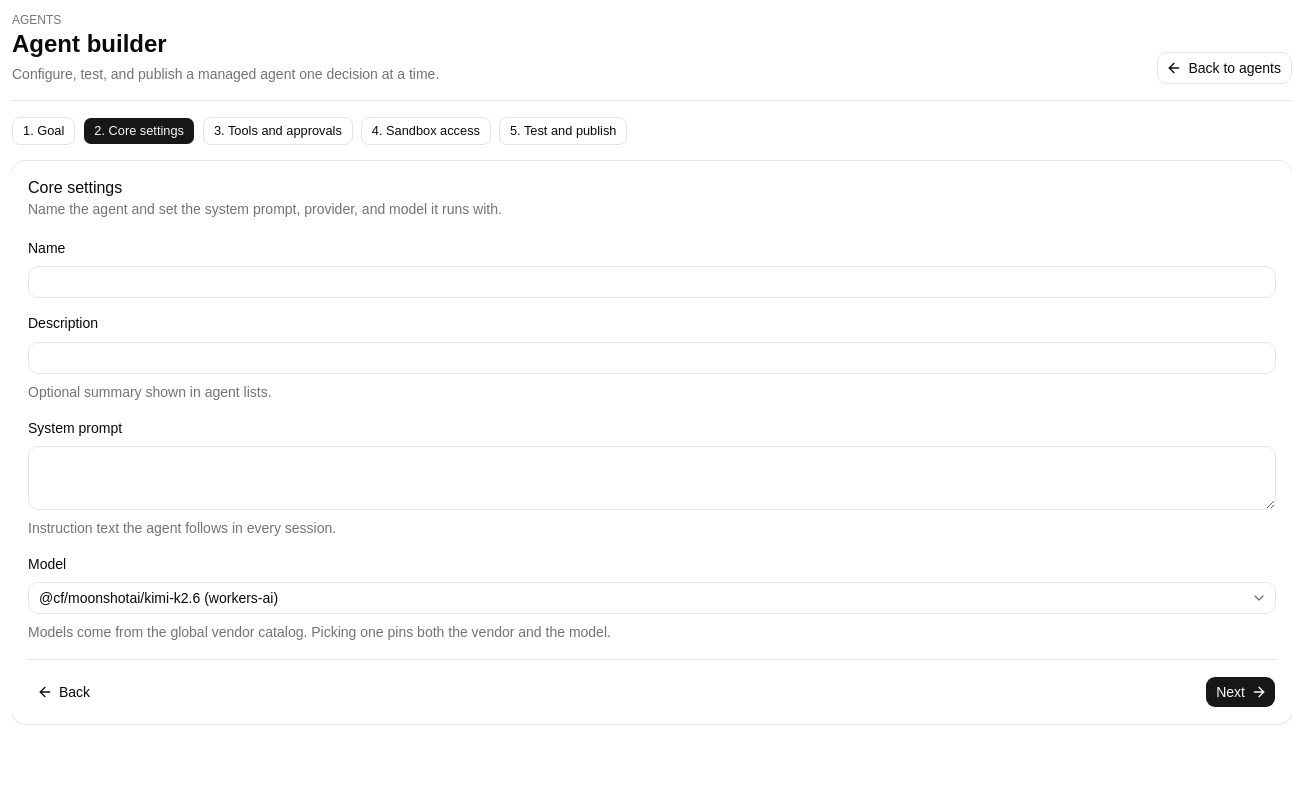
Test: [spec: agents/builder] AgentBuilderPage › navigates back to start step when Back button is clicked on core step
Click the button "Back". click: x=65, y=692
box: [28, 676, 101, 708]
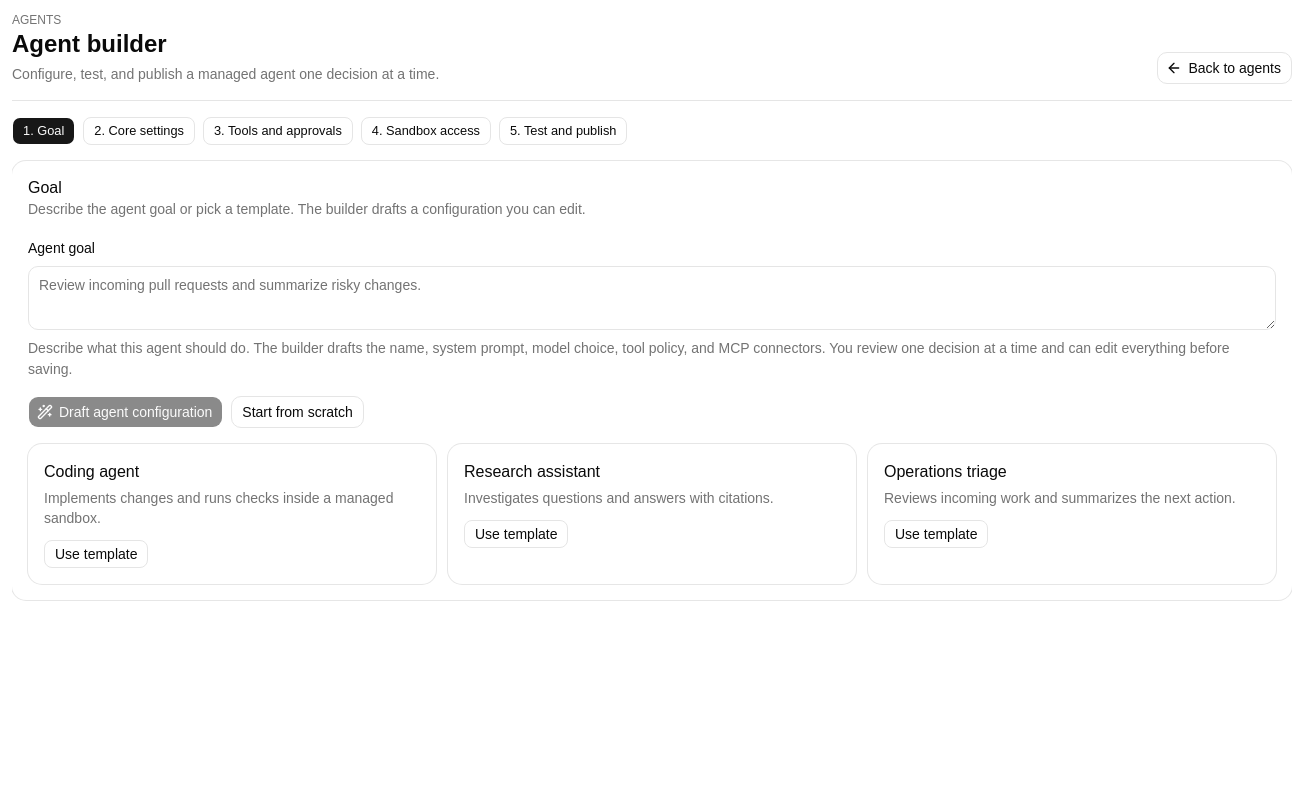
Now the text "Goal" is shown, box [28, 179, 62, 196]
